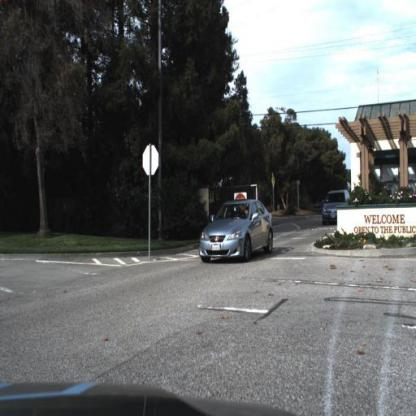car: (198, 197, 276, 270), (318, 188, 350, 230)
